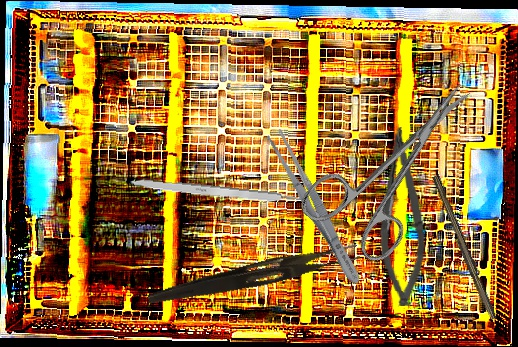Dressing Forceps: (146, 235, 361, 316), (263, 127, 367, 289)
Iris Scissors: (294, 55, 507, 275)
Micro Scissor: (370, 125, 431, 308)
Scalpel Handle: (427, 174, 500, 322), (123, 176, 307, 208)
